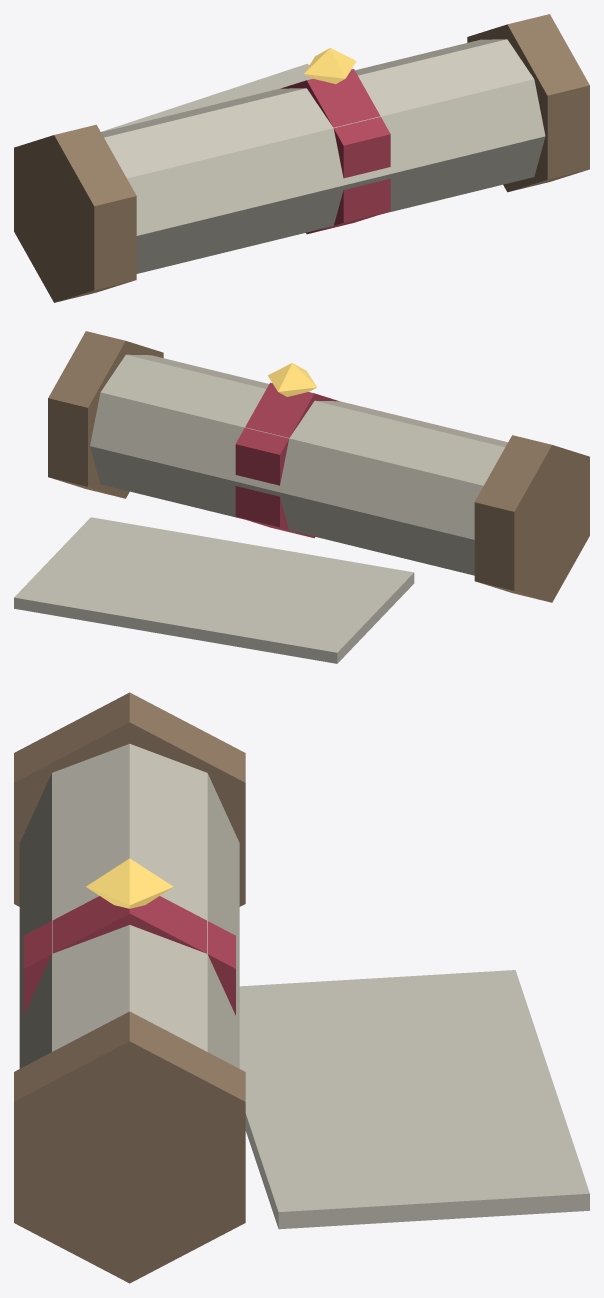
The model's file is scroll.glb.
3 views of the same model, one above another, from view 1: azimuth 30°, elevation 25°; view 2: azimuth 150°, elevation 25°; view 3: azimuth 270°, elevation 25° (orthographic). The views are drawn at different scales.
Visible parts, largest first — view 1: mesh_scroll, mesh_seal; view 2: mesh_scroll, mesh_seal; view 3: mesh_scroll, mesh_seal.
Part boxes in pixels (x1=…): mesh_scroll: x1=14, y1=14, x2=589, y2=302; mesh_seal: x1=304, y1=48, x2=356, y2=84; mesh_scroll: x1=14, y1=331, x2=589, y2=663; mesh_seal: x1=268, y1=363, x2=316, y2=396; mesh_scroll: x1=14, y1=692, x2=589, y2=1283; mesh_seal: x1=86, y1=858, x2=173, y2=908.
Size of the model in its own units: 0.525 by 0.19 by 0.3663.
